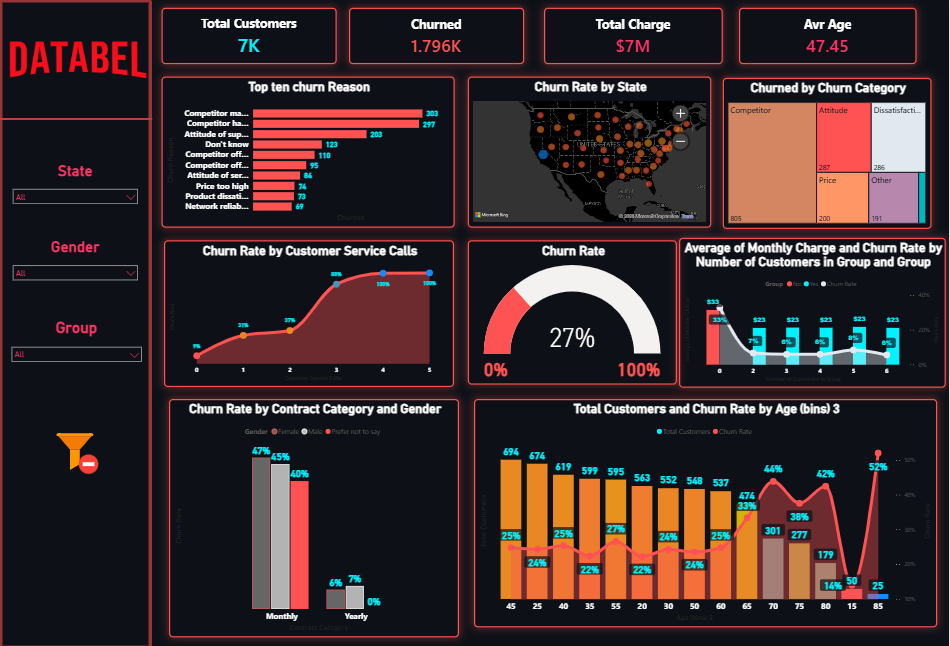

What the dashboard file says about the page in this screenshot:
{"tool":"powerbi","page":{"name":"DataBel_DashBoard","canvas":[1900,1300],"ordinal":0},"visuals":[{"type":"shape","box":[0,0,306,1300],"z":0},{"type":"image","box":[8,0,292,240],"z":1000},{"type":"shape","box":[0,106.7,306.7,265],"z":2000},{"type":"slicer","title":"State","fields":{"Values":["Databel - Data.State"]},"box":[18,326,270,90],"z":3000},{"type":"slicer","title":"Gender","fields":{"Values":["Databel - Data.Gender"]},"box":[18,478,270,88.3],"z":4000},{"type":"slicer","title":"Group","fields":{"Values":["Databel - Data.Group"]},"box":[14,640,280,132],"z":5000},{"type":"image","box":[106,822,93.3,161.7],"z":6000},{"type":"cardVisual","fields":{"Data":["Measure.Total Customers"]},"box":[325,17.5,350,112.5],"z":7000},{"type":"cardVisual","fields":{"Data":["Measure.Churned"]},"box":[700,17.5,350,112.5],"z":8000},{"type":"cardVisual","fields":{"Data":["Measure.Total Charge"]},"box":[1090,17.5,357.5,112.5],"z":9000},{"type":"cardVisual","fields":{"Data":["Measure.Avr Age"]},"box":[1480,17.5,355,112.5],"z":10000},{"type":"barChart","title":"Top ten churn Reason","fields":{"Category":["Databel - Data.Churn Reason"],"Y":["Measure.Churned"]},"box":[324,156,586,302],"z":11000},{"type":"map","fields":{"Category":["Databel - Data.State"],"Size":["Measure.Churn Rate"]},"box":[938,156,487.5,302.5],"z":12000},{"type":"treemap","fields":{"Group":["Databel - Data.Churn Category"],"Values":["Measure.Churned"]},"box":[1447.5,157.5,417.5,302.5],"z":13000},{"type":"lineChart","fields":{"Category":["Databel - Data.Customer Service Calls"],"Y":["Measure.Churn Rate"]},"box":[330,483.3,580,293.3],"z":14000},{"type":"gauge","fields":{"Y":["Measure.Churn Rate"]},"box":[936.7,483.3,418.6,288.6],"z":15000},{"type":"lineClusteredColumnComboChart","fields":{"Category":["Databel - Data.Number of Customers in Group"],"Series":["Databel - Data.Group"],"Y":["Avg(Databel - Data.Monthly Charge)"],"Y2":["Measure.Churn Rate"]},"box":[1360,476.7,533.3,300],"z":16000},{"type":"lineClusteredColumnComboChart","fields":{"Category":["Databel - Data.Age (bins) 3"],"Y":["Measure.Total Customers"],"Y2":["Measure.Churn Rate"]},"box":[950,800,926.7,456.7],"z":16001},{"type":"clusteredColumnChart","fields":{"Category":["Databel - Data.Contract Category"],"Series":["Databel - Data.Gender"],"Y":["Measure.Churn Rate"]},"box":[340,800,580,476.7],"z":16002}]}

Visuals, with their boxes in screenshot pixels (x1, y1, x2, y2), scaled from the page's 1900x1300 canvas onto the 950x646 screenshot:
shape: {"left": 0, "top": 0, "right": 153, "bottom": 645}
image: {"left": 4, "top": 0, "right": 150, "bottom": 119}
shape: {"left": 0, "top": 53, "right": 153, "bottom": 185}
"State" slicer: {"left": 9, "top": 162, "right": 144, "bottom": 207}
"Gender" slicer: {"left": 9, "top": 238, "right": 144, "bottom": 281}
"Group" slicer: {"left": 7, "top": 318, "right": 147, "bottom": 384}
image: {"left": 53, "top": 408, "right": 100, "bottom": 489}
cardVisual - Measure.Total Customers: {"left": 162, "top": 9, "right": 338, "bottom": 65}
cardVisual - Measure.Churned: {"left": 350, "top": 9, "right": 525, "bottom": 65}
cardVisual - Measure.Total Charge: {"left": 545, "top": 9, "right": 724, "bottom": 65}
cardVisual - Measure.Avr Age: {"left": 740, "top": 9, "right": 918, "bottom": 65}
"Top ten churn Reason" barChart: {"left": 162, "top": 78, "right": 455, "bottom": 228}
map - Databel - Data.State x Measure.Churn Rate: {"left": 469, "top": 78, "right": 713, "bottom": 228}
treemap - Databel - Data.Churn Category x Measure.Churned: {"left": 724, "top": 78, "right": 932, "bottom": 229}
lineChart - Databel - Data.Customer Service Calls x Measure.Churn Rate: {"left": 165, "top": 240, "right": 455, "bottom": 386}
gauge - Measure.Churn Rate: {"left": 468, "top": 240, "right": 678, "bottom": 384}
lineClusteredColumnComboChart - Databel - Data.Number of Customers in Group x Databel - Data.Group: {"left": 680, "top": 237, "right": 947, "bottom": 386}
lineClusteredColumnComboChart - Databel - Data.Age (bins) 3 x Measure.Total Customers: {"left": 475, "top": 398, "right": 938, "bottom": 624}
clusteredColumnChart - Databel - Data.Contract Category x Databel - Data.Gender: {"left": 170, "top": 398, "right": 460, "bottom": 634}
